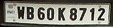character: (57, 6, 66, 21), (36, 6, 45, 20), (78, 7, 87, 21), (97, 6, 105, 21), (25, 6, 34, 19), (16, 5, 24, 19), (46, 7, 54, 21), (69, 7, 77, 21), (89, 7, 95, 21)
